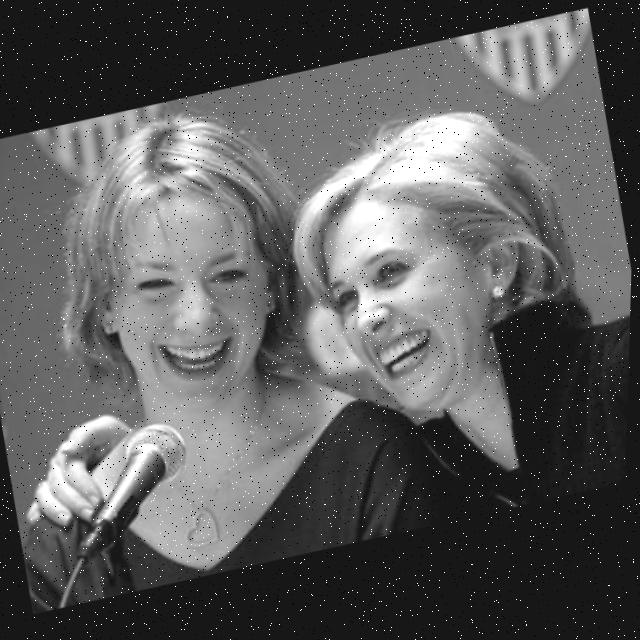face: (303, 152, 556, 445), (88, 157, 309, 426)
